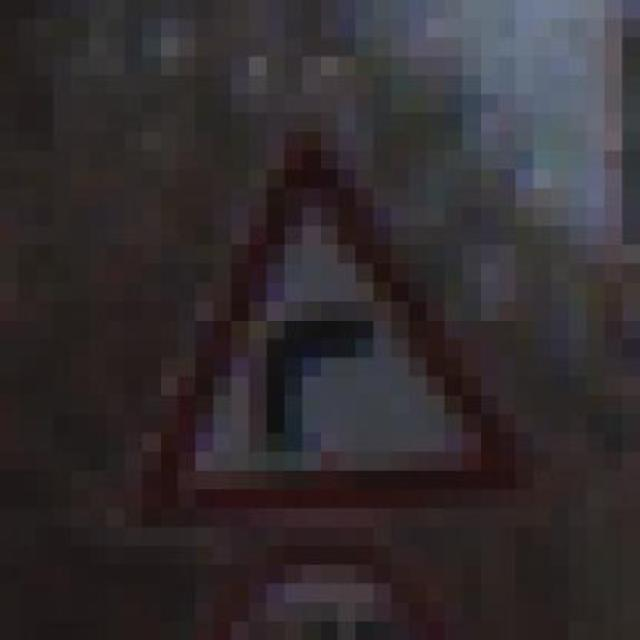Dangerous Rright Curve Ahead: (106, 131, 569, 527)
